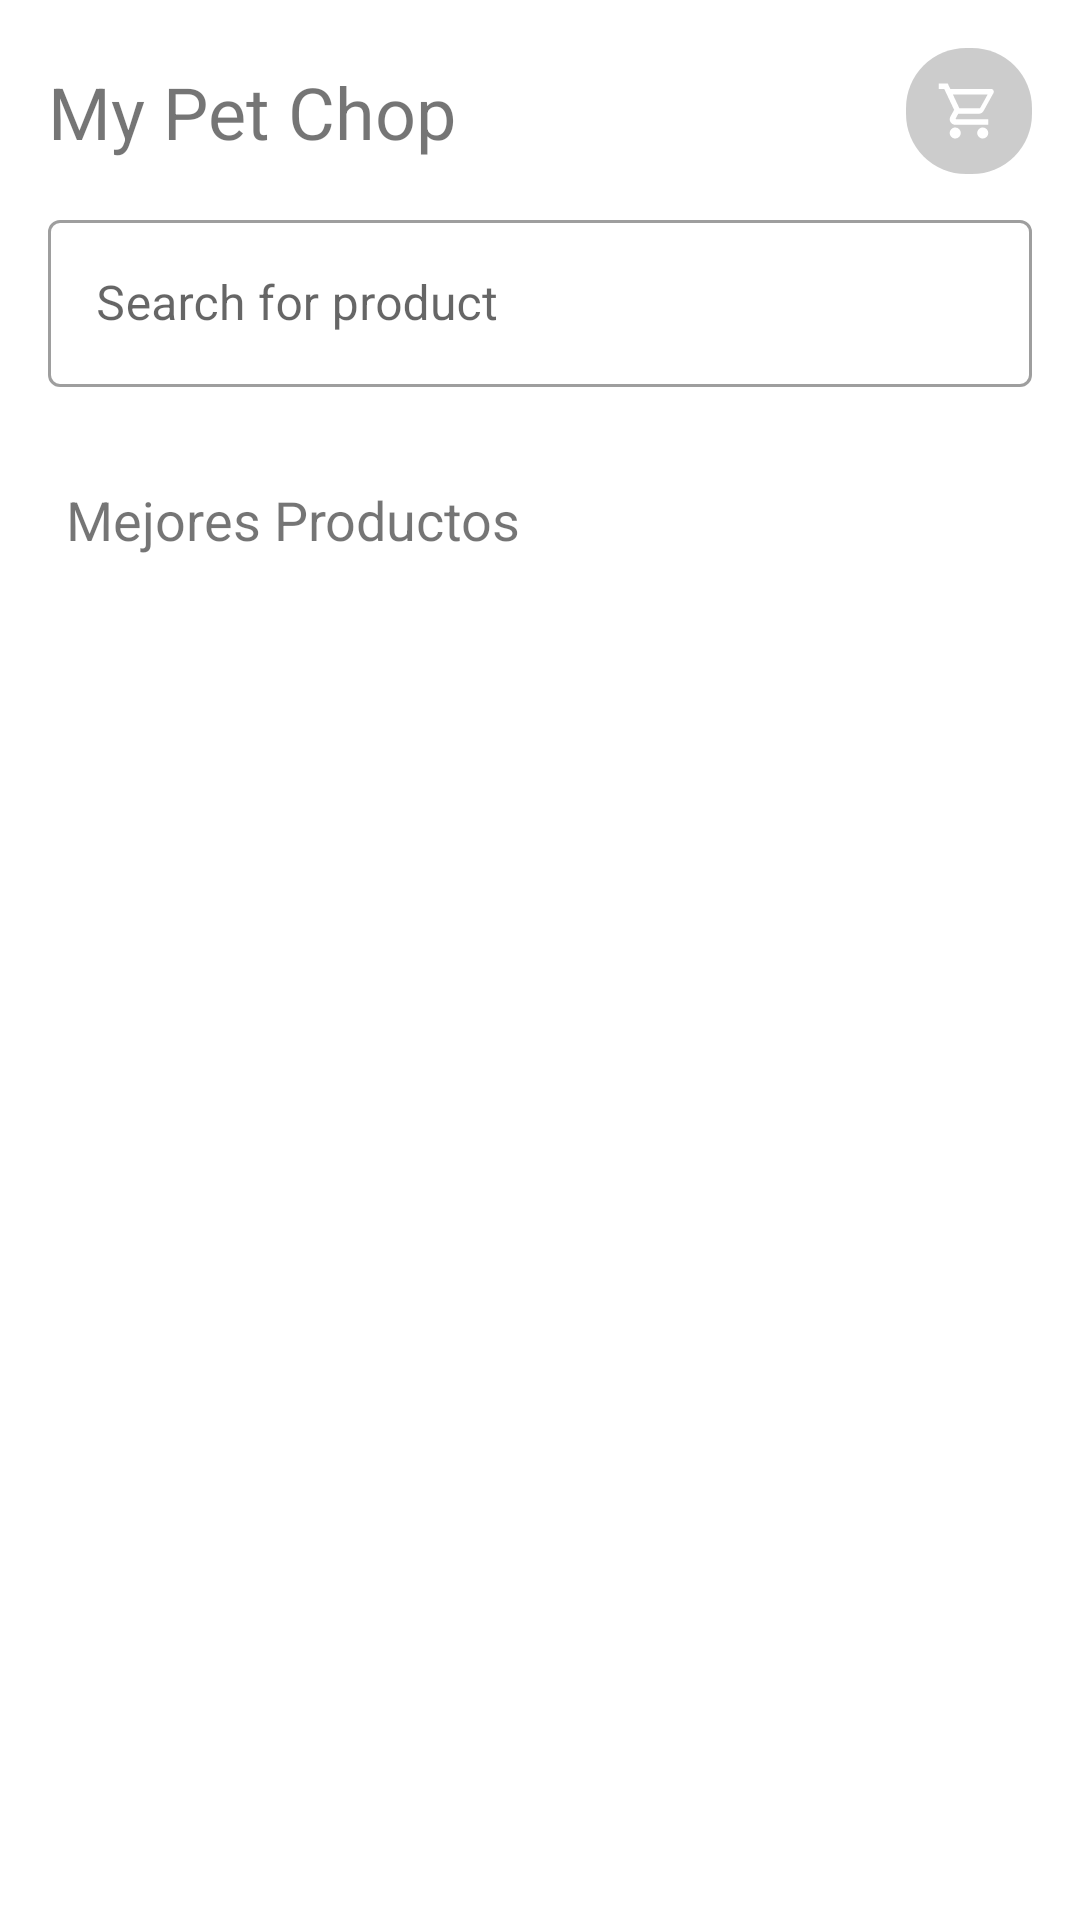

Point at icon controls on the screen. Image size 1080x1920, points as point (x, y).
cart: point (969, 111)
